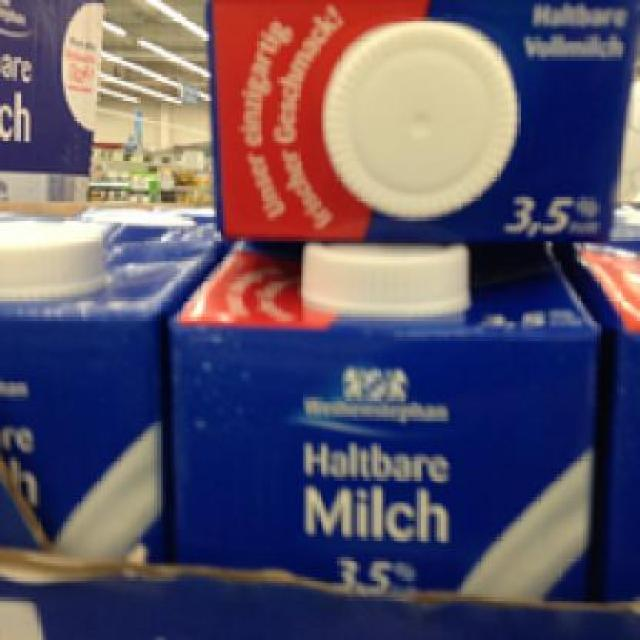Milk: (167, 230, 604, 606), (193, 0, 638, 235)
